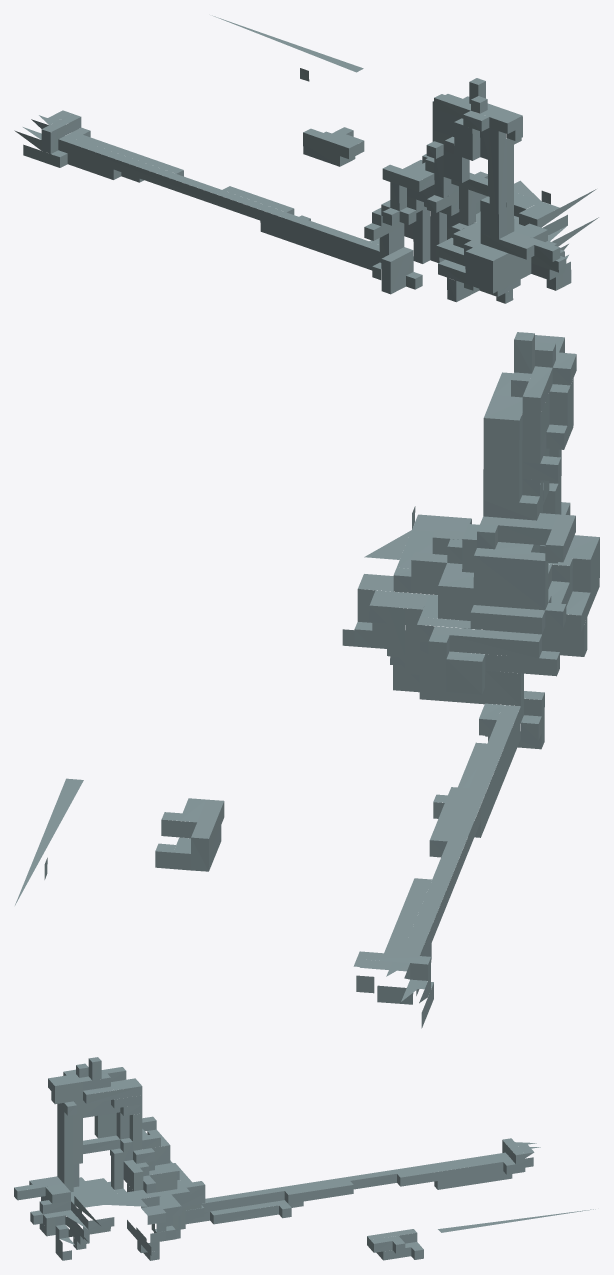
The picture shows the model from 3 angles, top to bottom: view 1: azimuth 30°, elevation 25°; view 2: azimuth 150°, elevation 25°; view 3: azimuth 270°, elevation 25°; orthographic projection. The views are drawn at different scales.
Visible parts, largest first — view 1: measured-industrial; view 2: measured-industrial; view 3: measured-industrial.
Boxes of the visible parts, box(x1,y1,x2,y2) form: measured-industrial: box(14, 15, 598, 303); measured-industrial: box(15, 332, 599, 1028); measured-industrial: box(14, 1057, 595, 1260).
Bounding box in the file's own units: 31.1 × 21.03 × 58.87.
